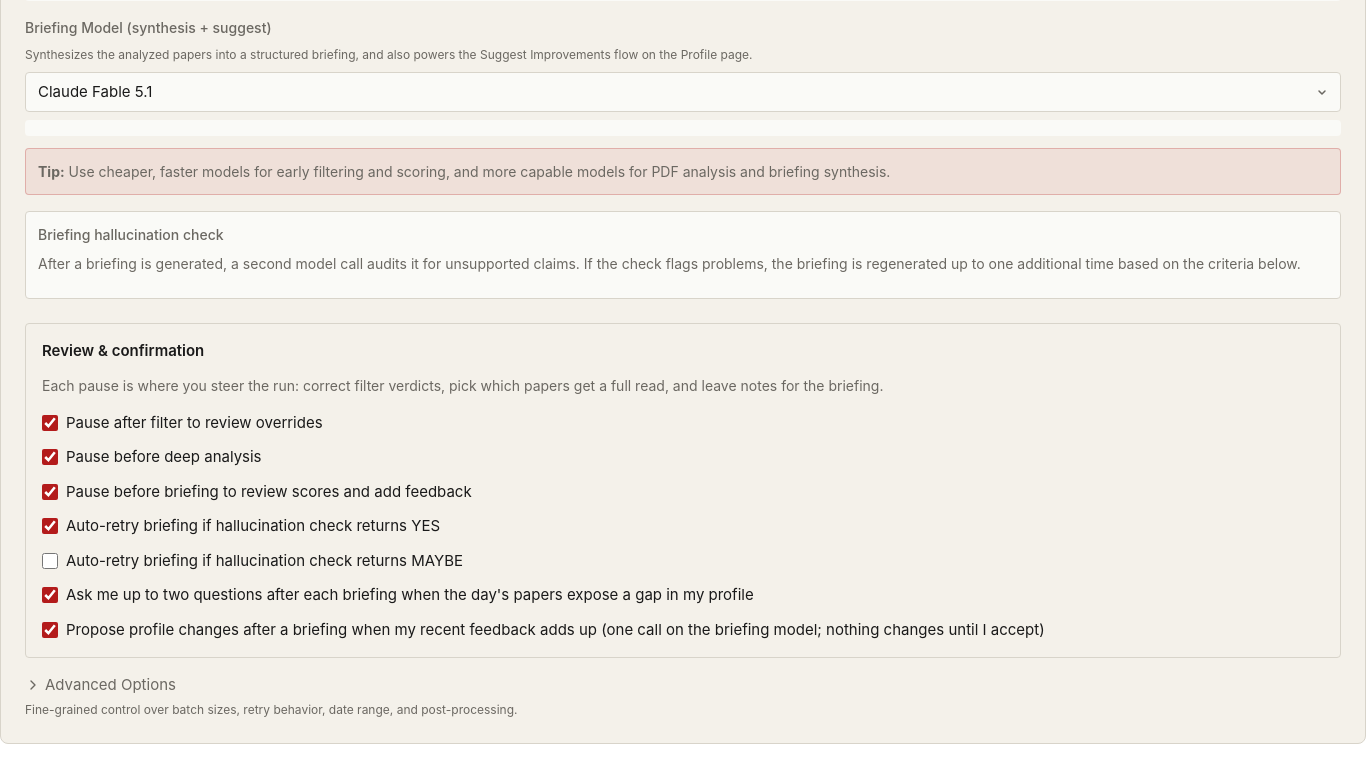
Test: SettingsPanel — Remove duplicate papers toggle › renders the "Remove duplicate papers" label after expanding Advanced Options
(page scrolled)
Click the button "Advanced Options" at (100, 685), box left=25, top=674, right=176, bottom=696
(page scrolled)
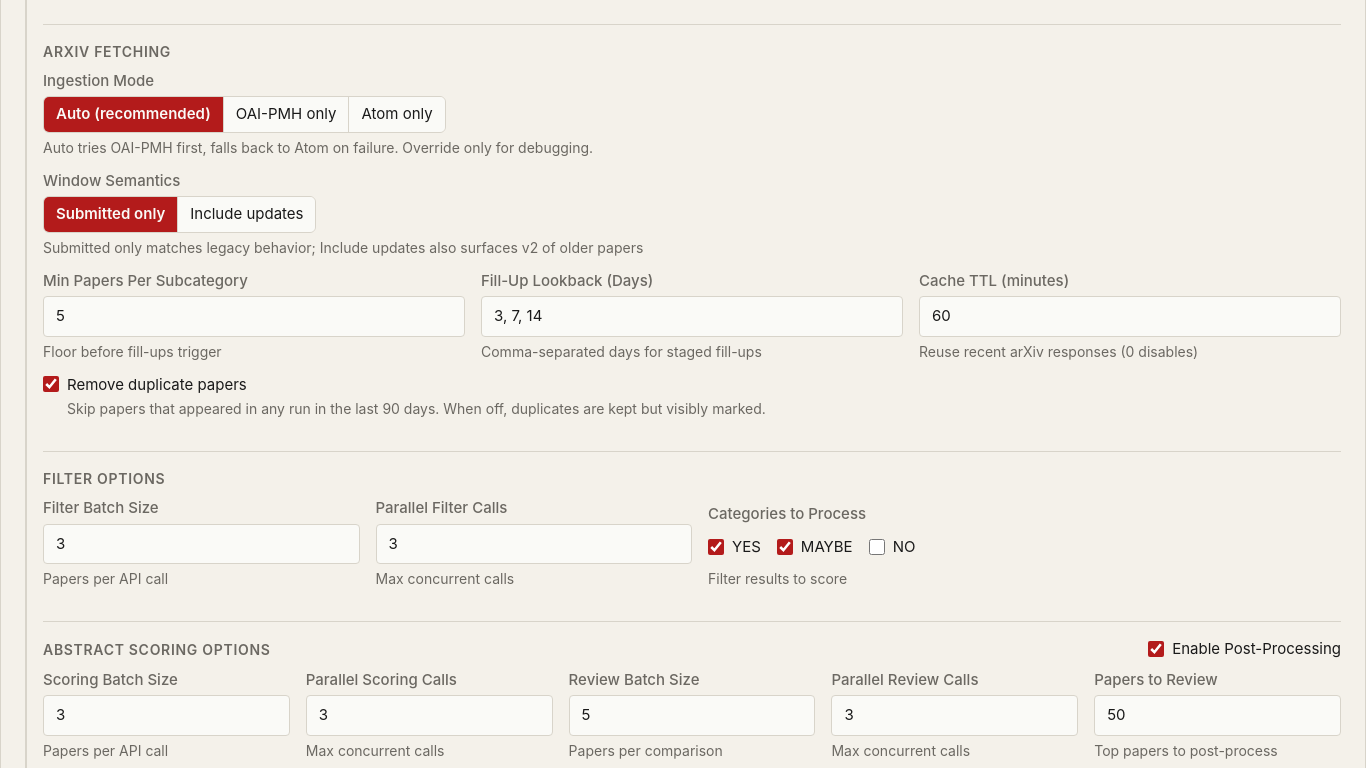
Now the text "Remove duplicate papers" is shown, box left=67, top=374, right=247, bottom=394
